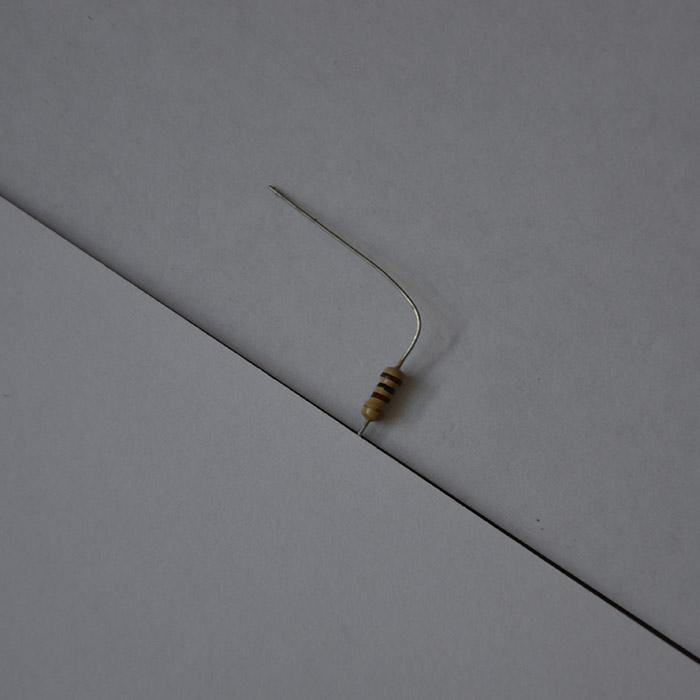resistor: (361, 365, 406, 425)
